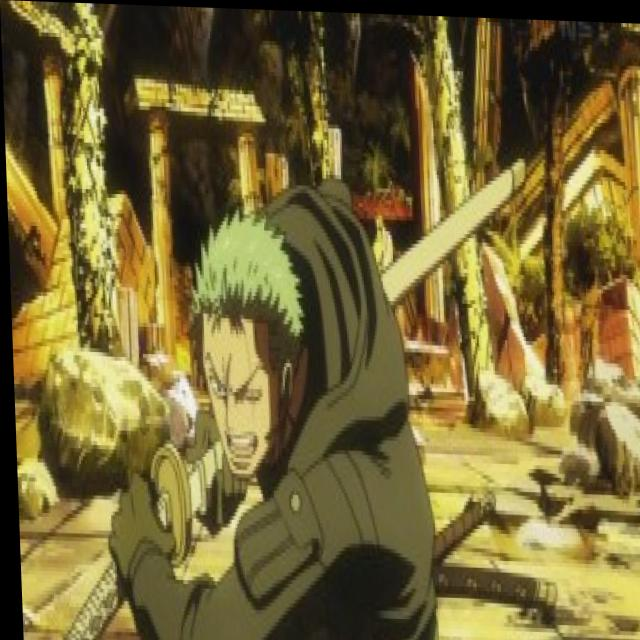Zoro: (176, 196, 329, 497)
